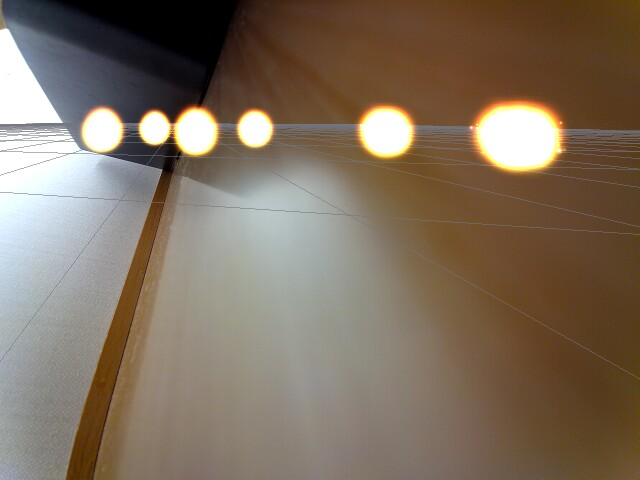firebig: (476, 93, 573, 174)
